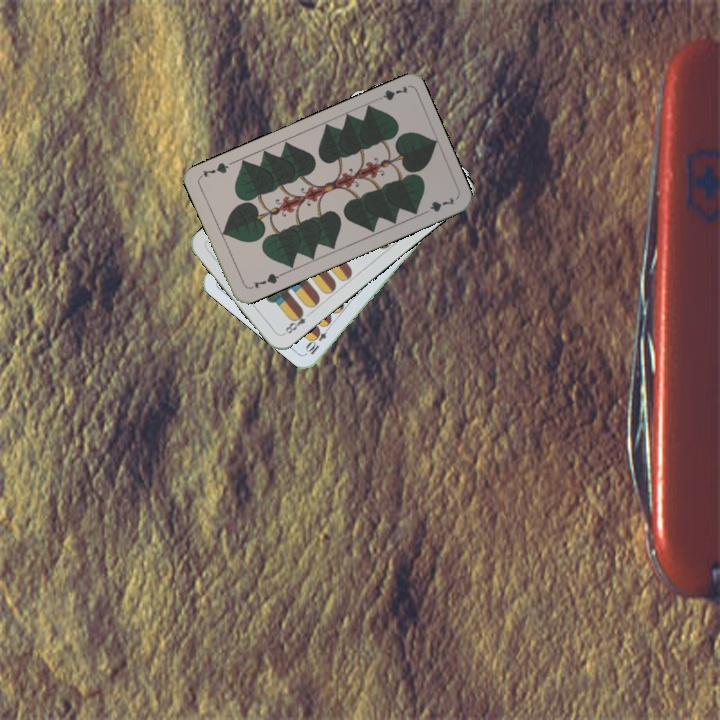E10: (302, 321, 333, 357)
E8: (279, 306, 314, 337)
G7: (370, 81, 411, 104), (249, 269, 284, 291)
